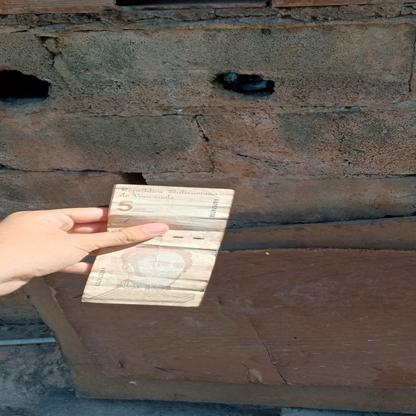five-front-vef: (81, 183, 235, 308)
